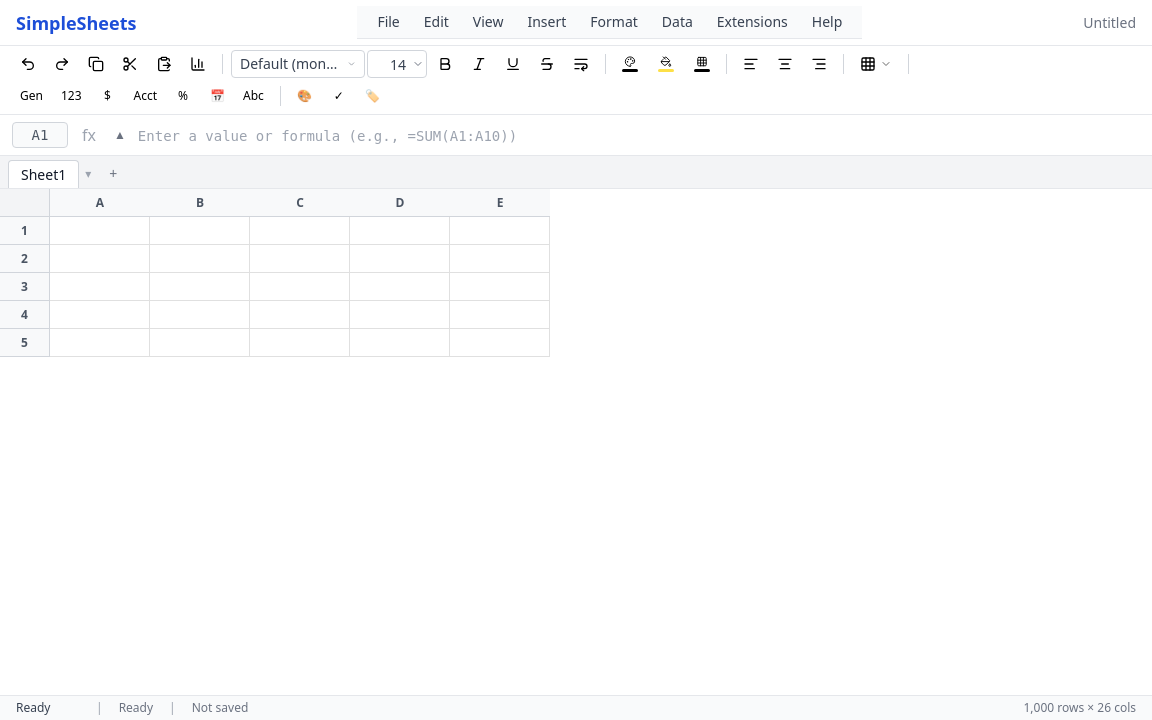
Test: App › opens Edit menu and shows Undo/Redo items
This screenshot has width=1152, height=720.
What coordinates should you click on to do the following:
click the button "Edit"
I would click on:
 (436, 22)
Its box is [412, 8, 461, 36].
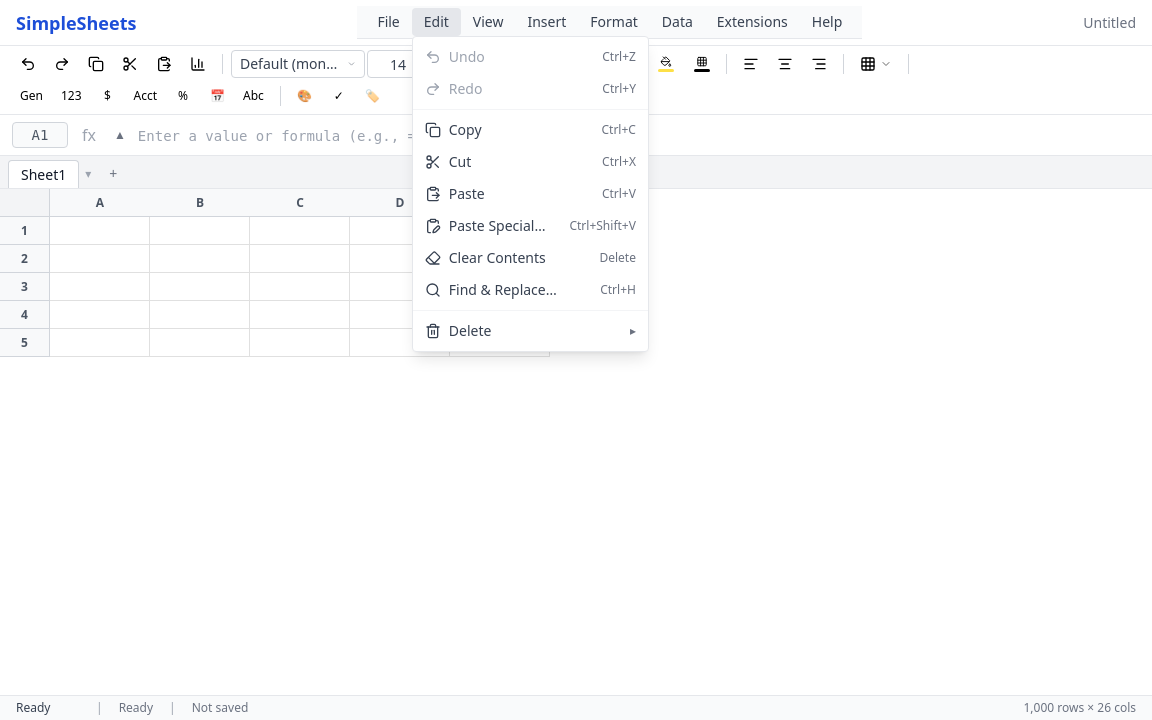
Now the text "Undo" is shown, box [449, 47, 485, 66]
Now the text "Redo" is shown, box [449, 79, 482, 98]
